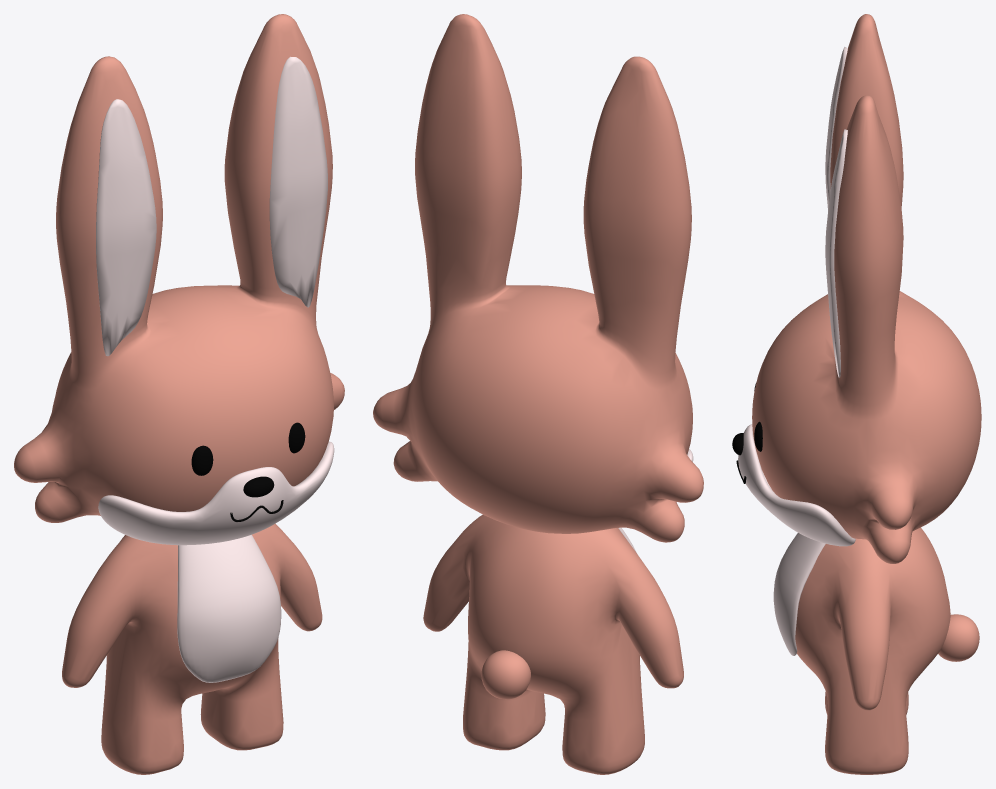
The model's file is rabbit.glb.
3 views of the same model, side by side, from view 1: azimuth 30°, elevation 25°; view 2: azimuth 150°, elevation 25°; view 3: azimuth 270°, elevation 25° (orthographic). The views are drawn at different scales.
Parts seen in each view (by area): view 1: Object_2, Object_3, Object_4; view 2: Object_2; view 3: Object_2, Object_3, Object_4.
Boxes of the visible parts, x1,y1,x2,y2 form: Object_2: (14, 14, 344, 774); Object_3: (96, 56, 334, 682); Object_4: (191, 422, 305, 521); Object_2: (373, 14, 703, 774); Object_2: (752, 14, 981, 774); Object_3: (738, 47, 855, 655); Object_4: (732, 383, 762, 483).
Bounding box in the file's own units: 2.53 × 5.28 × 1.74.
